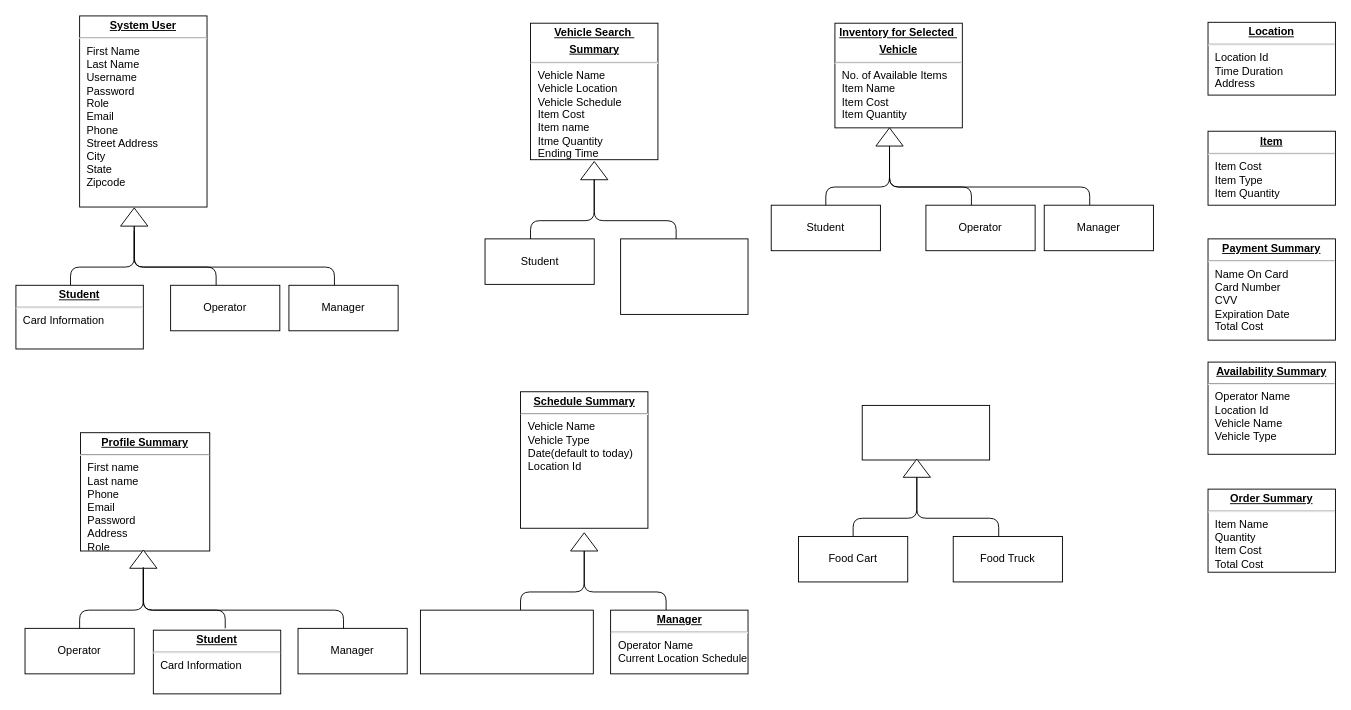
This 1351x710 diagram has some shape labels left out. Here are the shapes that lost their labels. From the top down, the centre of each, then its label:
the point at 684,276: Manager Total reveneue Number of Transactions Operator Name
the point at 925,432: Vehicle Vehicle Id
the point at 506,641: Operator Time Duration(assigned Vehicle)
